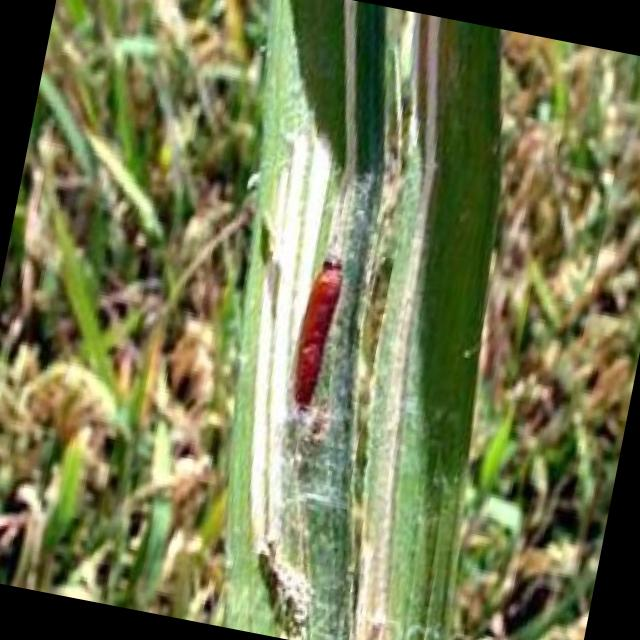leaf-folder: (267, 237, 382, 430)
